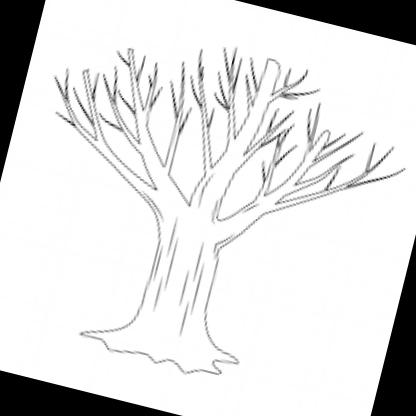branch_sharp: (29, 6, 416, 272)
root_only: (70, 306, 252, 393)
trunk_bark: (130, 242, 232, 335)
